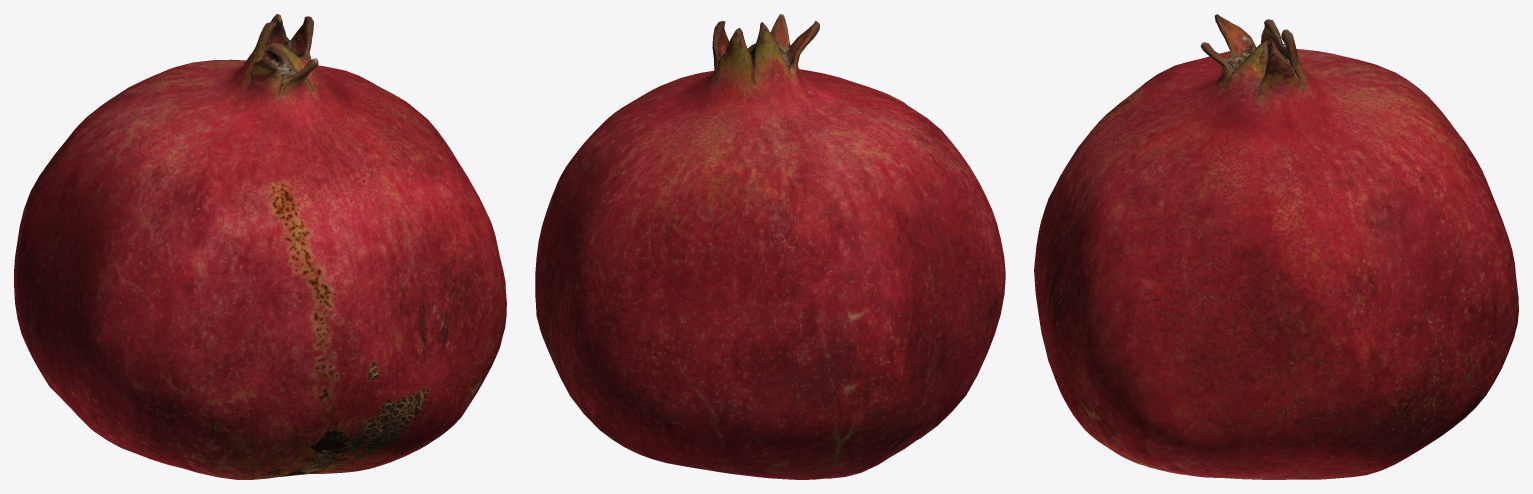
File: pomegranate.glb
3 views of the same model, side by side, from view 1: azimuth 30°, elevation 25°; view 2: azimuth 150°, elevation 25°; view 3: azimuth 270°, elevation 25° (orthographic). The views are drawn at different scales.
Visible parts, largest first — view 1: lp.002_0; view 2: lp.002_0; view 3: lp.002_0.
Boxes of the visible parts, left/top/right/bottom form: lp.002_0: left=14, top=14, right=506, bottom=479; lp.002_0: left=535, top=14, right=1005, bottom=479; lp.002_0: left=1034, top=14, right=1518, bottom=479.
Bounding box in the file's own units: 0.1379 × 0.1373 × 0.1396.
1 material, 1 textured.
